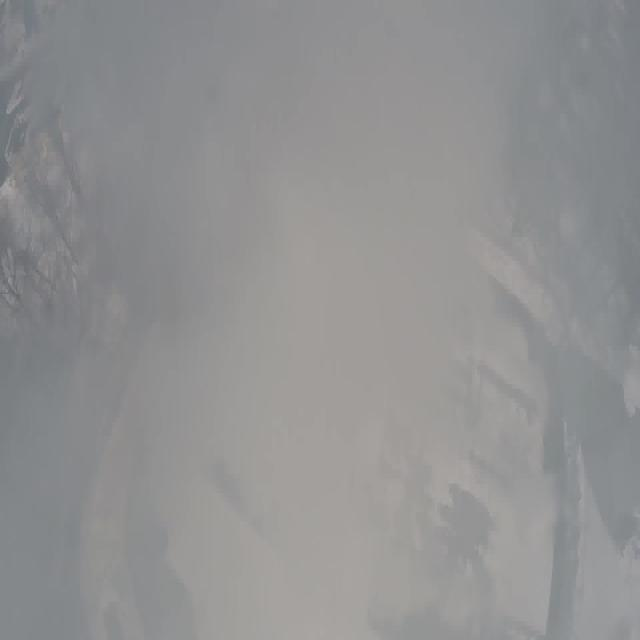Smoke: (0, 1, 640, 592)
